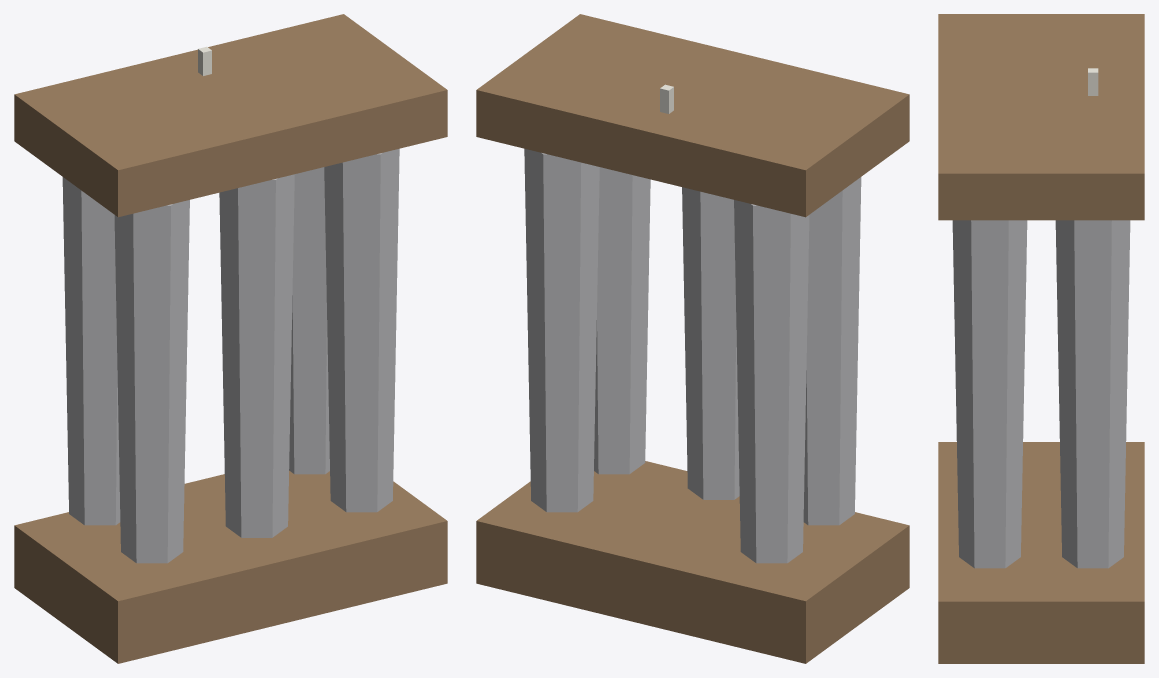
The model's file is prop-candle-mold.fbx.
3 views of the same model, side by side, from view 1: azimuth 30°, elevation 25°; view 2: azimuth 150°, elevation 25°; view 3: azimuth 270°, elevation 25° (orthographic).
Parts seen in each view (by area): view 1: prop-candle-mold; view 2: prop-candle-mold; view 3: prop-candle-mold.
Part boxes in pixels (box(x1,y1,x2,y2)): prop-candle-mold: box(14, 14, 447, 663); prop-candle-mold: box(476, 14, 909, 663); prop-candle-mold: box(938, 14, 1144, 663).
Bounding box in the file's own units: 22 × 33 × 12.
